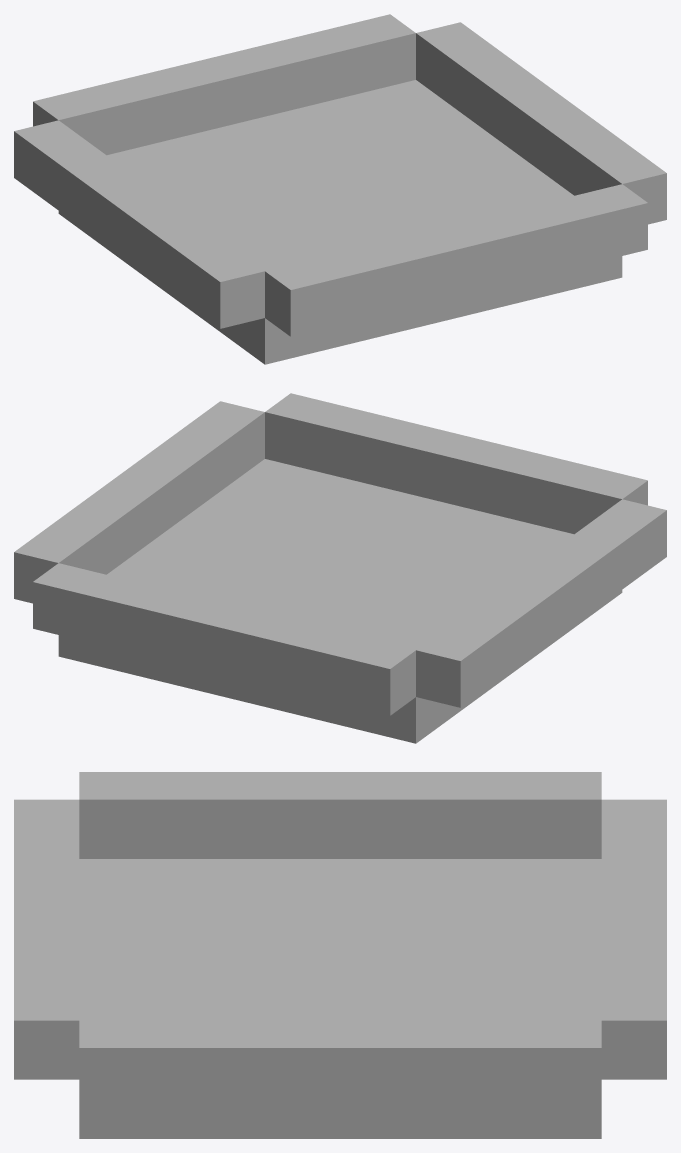
The model's file is farfurie.fbx.
3 views of the same model, one above another, from view 1: azimuth 30°, elevation 25°; view 2: azimuth 150°, elevation 25°; view 3: azimuth 270°, elevation 25° (orthographic). The views are drawn at different scales.
Parts seen in each view (by area): view 1: cube, cube_4, cube_3, cube_1, cube_2; view 2: cube, cube_3, cube_4, cube_1, cube_2; view 3: cube, cube_2, cube_1, cube_3, cube_4.
Part boxes in pixels (<box>): cube: <box>58,80,622,364</box>; cube_4: <box>265,184,647,336</box>; cube_3: <box>33,14,415,155</box>; cube_1: <box>14,120,264,328</box>; cube_2: <box>416,22,666,224</box>; cube: <box>58,459,622,743</box>; cube_3: <box>33,563,415,715</box>; cube_4: <box>265,393,647,534</box>; cube_1: <box>416,499,666,707</box>; cube_2: <box>14,401,264,603</box>; cube: <box>79,859,601,1138</box>; cube_2: <box>79,1020,601,1107</box>; cube_1: <box>79,772,601,858</box>; cube_3: <box>601,799,666,1079</box>; cube_4: <box>14,799,79,1079</box>.
Size of the model in its own units: 62.5 by 12.5 by 62.5.
Materials: 1 (1 with a texture image).
